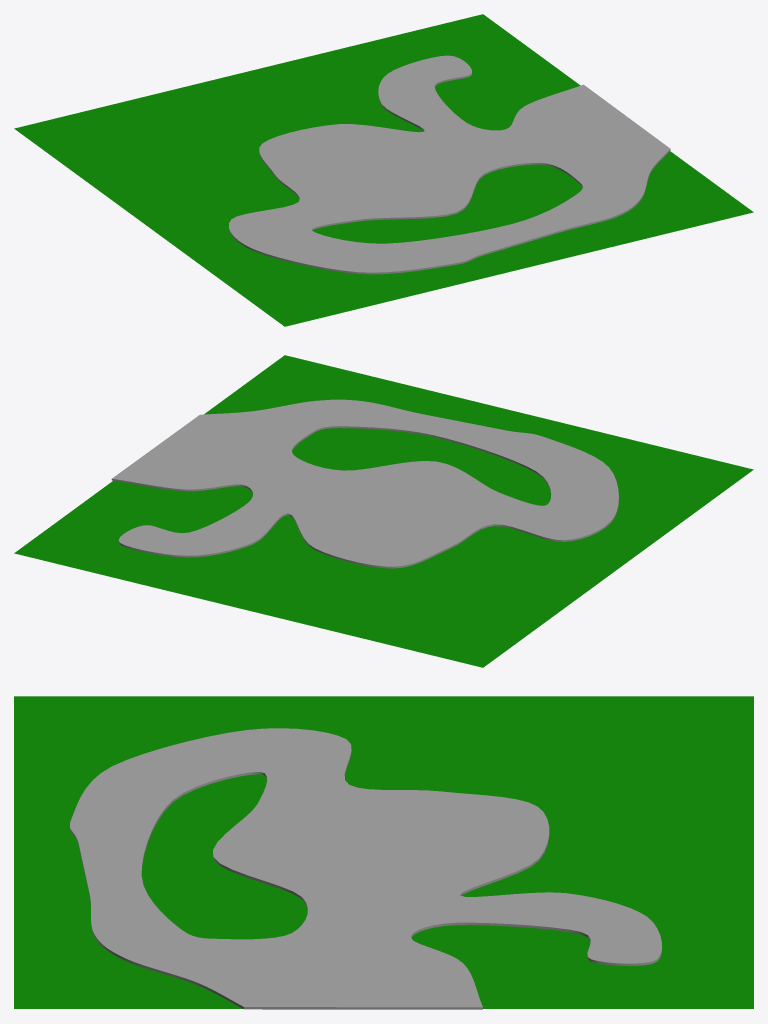
File: ParkGround.FBX
3 renders of one model, top to bottom at view 1: azimuth 30°, elevation 25°; view 2: azimuth 150°, elevation 25°; view 3: azimuth 270°, elevation 25°, orthographic. The views are drawn at different scales.
Parts seen in each view (by area): view 1: Plane001, Line001; view 2: Plane001, Line001; view 3: Plane001, Line001.
Boxes of the visible parts, box(x1,y1,x2,y2) form: Plane001: box(14, 14, 753, 326); Line001: box(228, 55, 670, 274); Plane001: box(14, 355, 753, 667); Line001: box(111, 399, 618, 568); Plane001: box(14, 696, 753, 1008); Line001: box(70, 728, 661, 1009).
Bounding box in the file's own units: 21112 × 76.64 × 21050.
